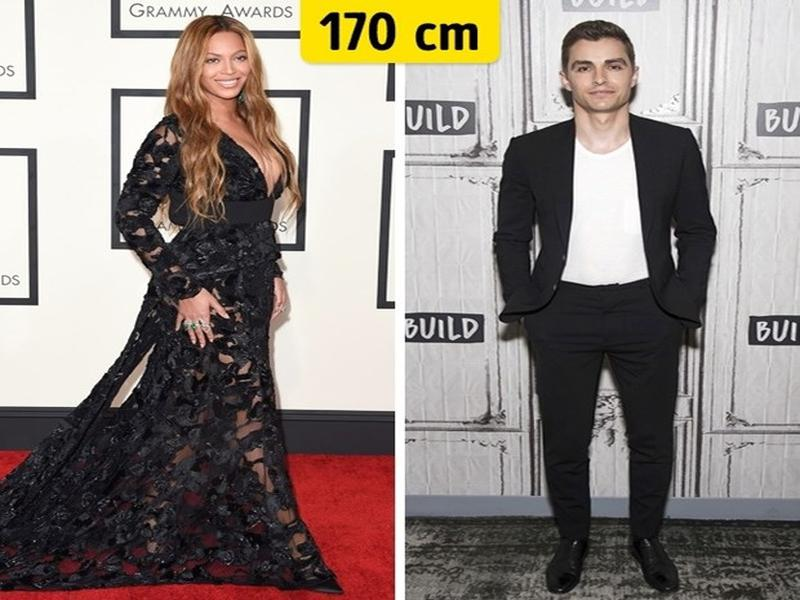human: (115, 16, 340, 594), (500, 21, 717, 589)
